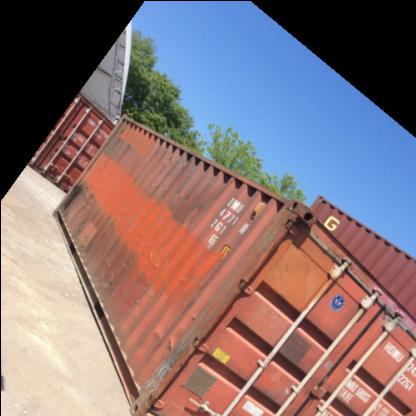Damage: (131, 312, 200, 396), (173, 182, 207, 226), (60, 182, 92, 221), (152, 147, 172, 200), (96, 250, 118, 298), (141, 238, 164, 276), (110, 126, 132, 164), (172, 268, 192, 289)
